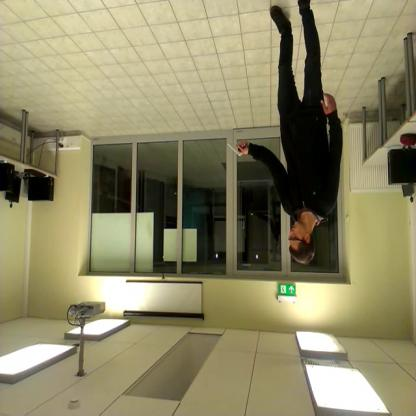Pistol: (226, 130, 250, 164)
